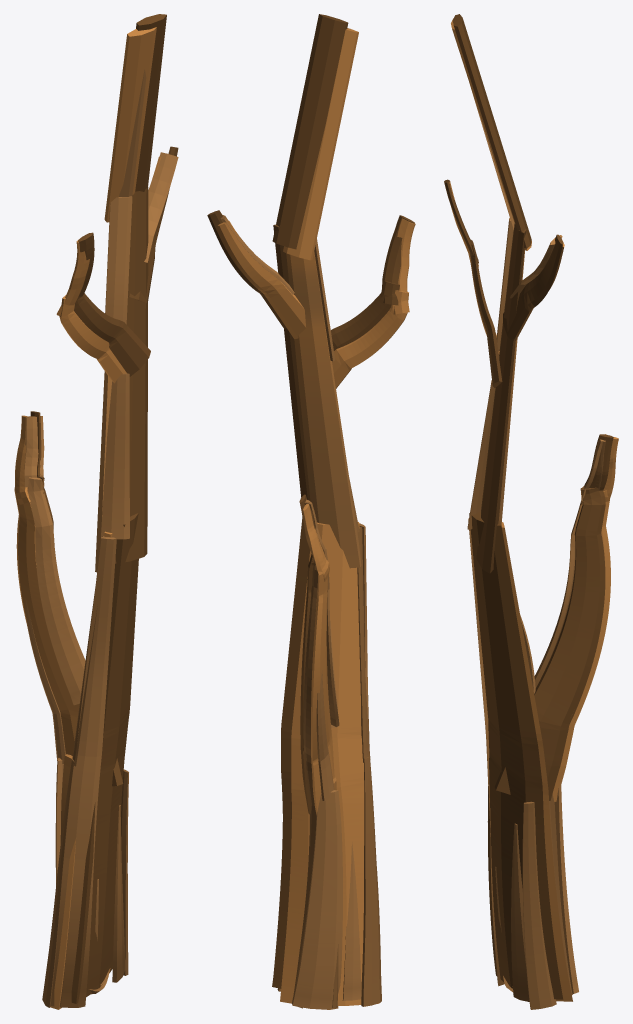
File: Stick.fbx
The picture shows the model from 3 angles, left to right: view 1: azimuth 30°, elevation 25°; view 2: azimuth 150°, elevation 25°; view 3: azimuth 270°, elevation 25°; orthographic projection. The views are drawn at different scales.
Parts seen in each view (by area): view 1: Paint; view 2: Paint; view 3: Paint.
Boxes of the visible parts, <box> form: Paint: <box>14,14,178,1009</box>; Paint: <box>207,14,415,1009</box>; Paint: <box>444,14,618,1009</box>.
Size of the model in its own units: 0.1117 by 0.6372 by 0.102.
